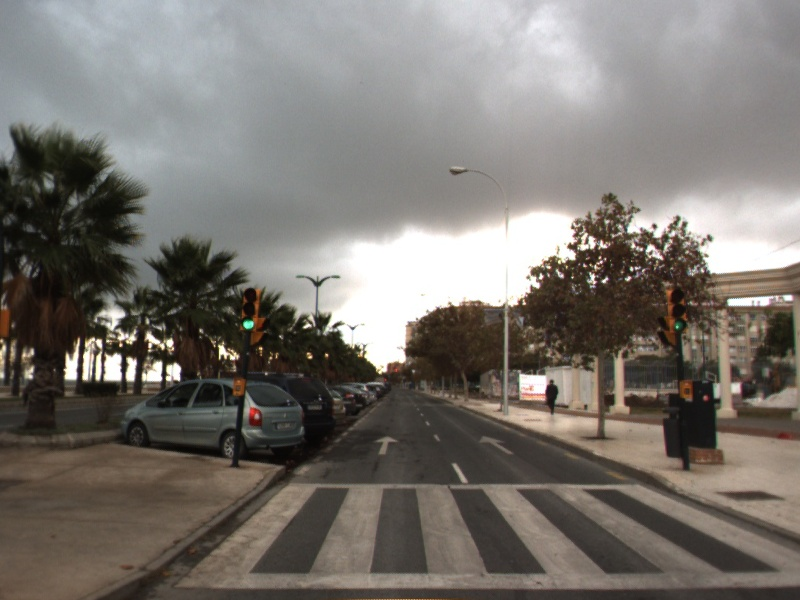STRAIGHT: (477, 434, 516, 456), (372, 434, 400, 456)
